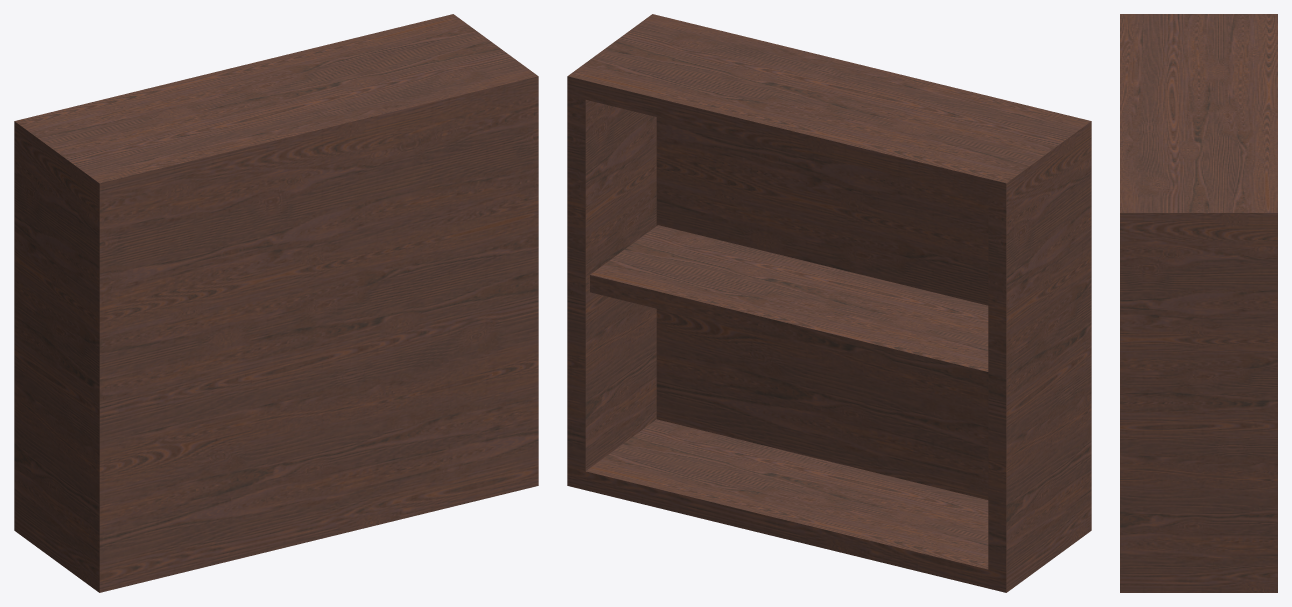
Rendered from BookShelf2.fbx.
3 renders of one model, left to right at view 1: azimuth 30°, elevation 25°; view 2: azimuth 150°, elevation 25°; view 3: azimuth 270°, elevation 25°, orthographic. The views are drawn at different scales.
Parts seen in each view (by area): view 1: BookShelf2; view 2: BookShelf2; view 3: BookShelf2.
Part boxes in pixels (x1=…): BookShelf2: x1=14, y1=14, x2=538, y2=592; BookShelf2: x1=567, y1=14, x2=1091, y2=592; BookShelf2: x1=1120, y1=14, x2=1277, y2=592.
Size of the model in its own units: 72.22 by 64.37 by 24.25.
Materials: 1 (1 with a texture image).
